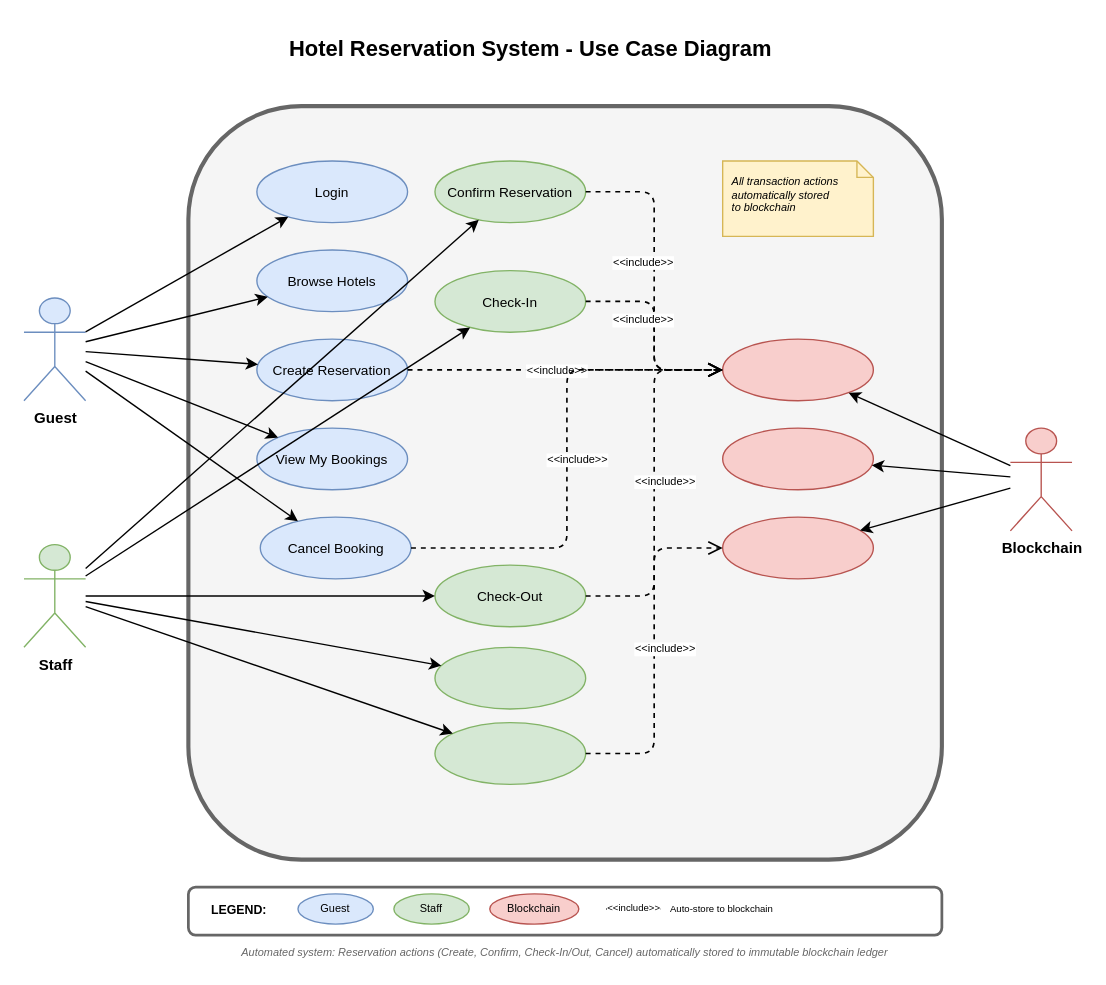
The diagram is 1106 pixels wide and 985 high, and some of its shapes have lost their labels. The box of each missing label's shape, as (x1, y1, x2, y2) in pixels:
Automated Reservation System: (186, 103, 943, 861)
Query Ledger: (721, 516, 873, 579)
Store Transaction: (721, 338, 873, 401)
Verify Data: (721, 427, 873, 490)
View All Reservations: (434, 646, 586, 709)
View Audit Trail: (434, 721, 586, 784)
